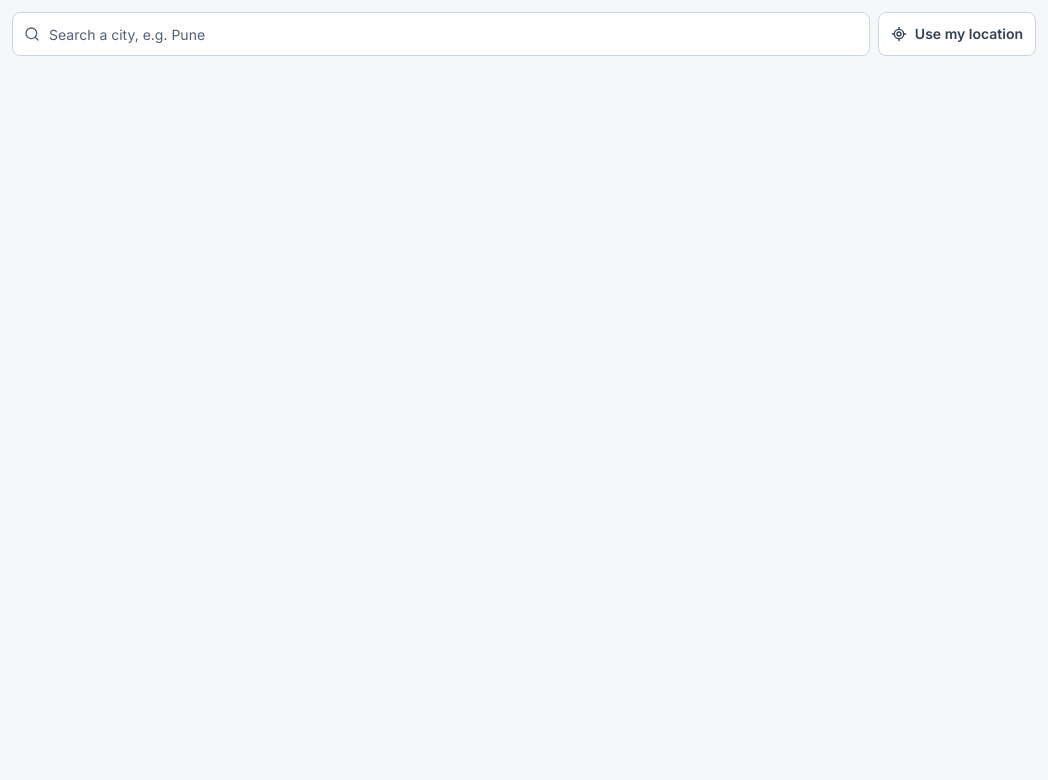
Use my location › explains a denied permission without storing anything
This screenshot has width=1048, height=780.
Click the button "Use my location": (957, 34) [878,12,1036,56]
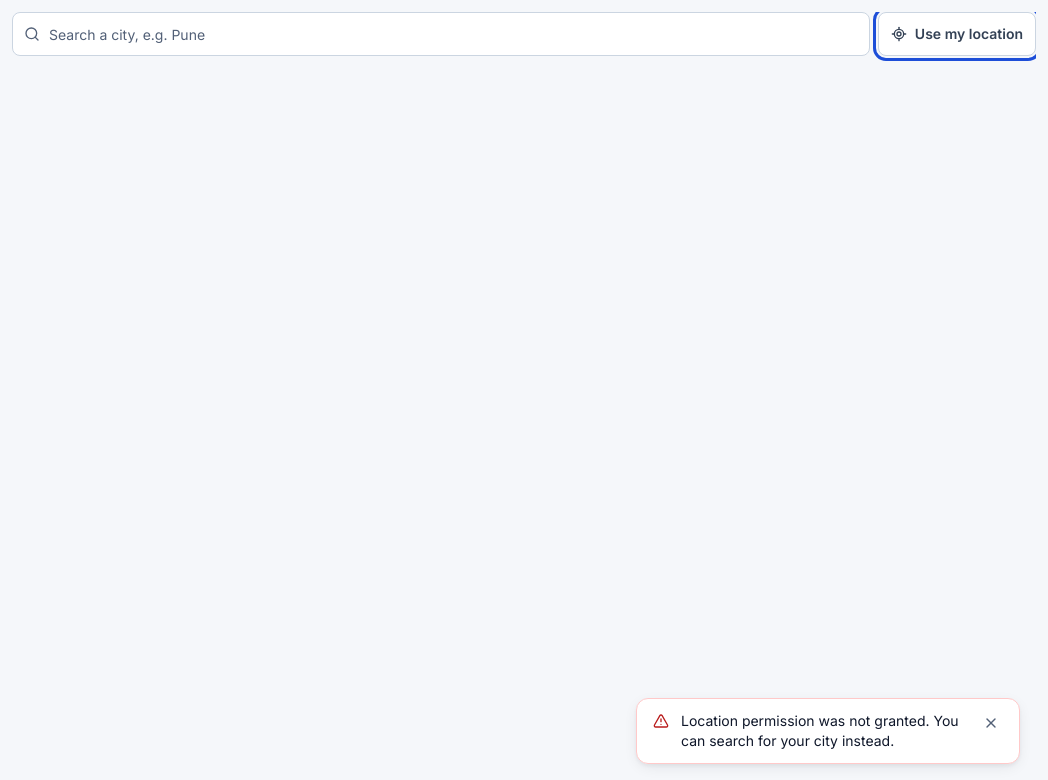
Now the text "permission was not granted" is shown, box [681,712,959,749]
